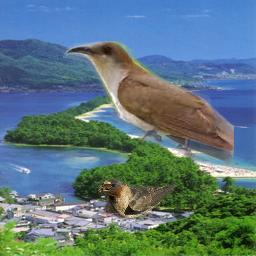Cuckoo: (63, 41, 234, 166)
Swallow: (98, 178, 178, 221)
